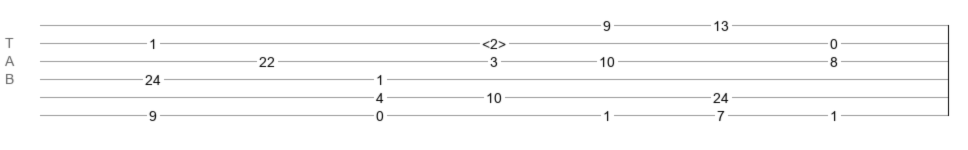0: (376, 108, 384, 118), (830, 36, 838, 46)
1: (149, 36, 157, 46), (376, 72, 384, 82), (603, 108, 611, 118), (830, 108, 838, 118)
10: (486, 90, 502, 100), (599, 54, 615, 64)
13: (713, 18, 729, 28)
22: (259, 54, 275, 64)
24: (145, 72, 161, 82), (713, 90, 729, 100)
3: (490, 54, 498, 64)
4: (376, 90, 384, 100)
7: (717, 108, 725, 118)
8: (830, 54, 838, 64)
9: (149, 108, 157, 118), (603, 18, 611, 28)
harmonic: (482, 36, 506, 46)
